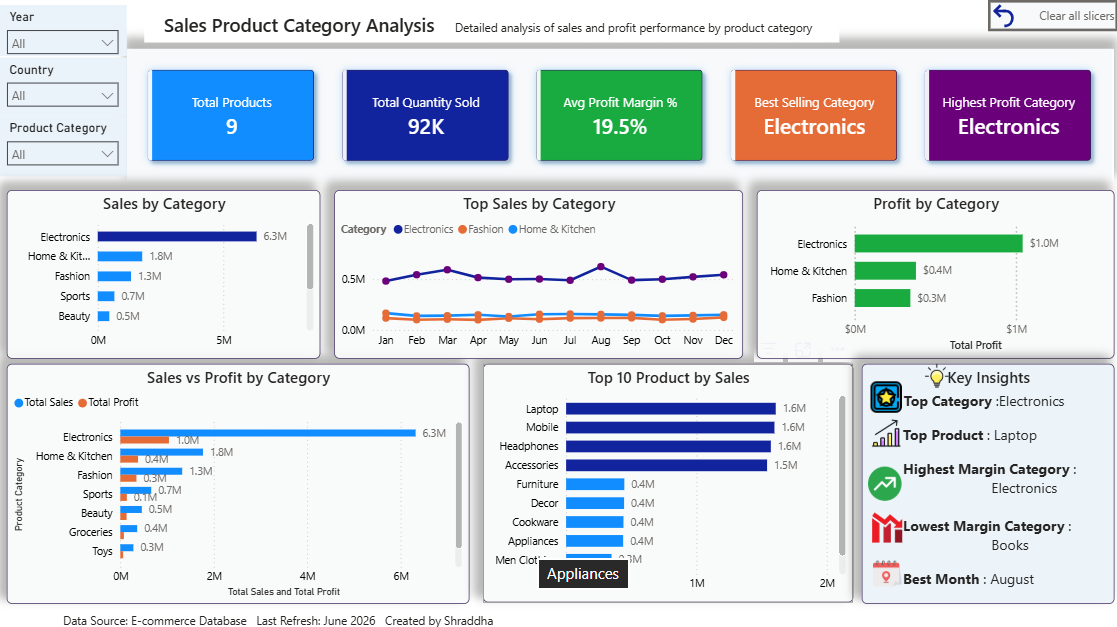

The dashboard page shown, as its layout file describes it:
{"tool":"powerbi","page":{"name":"Sales Product Category","canvas":[1280,720],"ordinal":1},"visuals":[{"type":"cardVisual","fields":{"Data":["ecommerce_orders_dataset.Total Products","ecommerce_orders_dataset.Total Quantity Sold","ecommerce_orders_dataset.Avg Profit Margin %","ecommerce_orders_dataset.Best Selling Category","ecommerce_orders_dataset.Highest Profit Category"]},"box":[147.1,55.7,1128.6,152.9],"z":0},{"type":"clusteredBarChart","title":"Sales vs Profit by Category","fields":{"Category":["ecommerce_orders_dataset.Product_Category"],"Y":["ecommerce_orders_dataset.Total Sales","ecommerce_orders_dataset.Total Profit"]},"box":[10,415.7,528.6,274.3],"z":1000},{"type":"clusteredBarChart","title":"Top 10 Product by Sales","fields":{"Category":["ecommerce_orders_dataset.Product_Subcategory"],"Y":["ecommerce_orders_dataset.Total Sales"]},"box":[554.3,415.7,422.9,272.9],"z":2000},{"type":"lineChart","title":"Top Sales by Category ","fields":{"Category":["ecommerce_orders_dataset.Month Name"],"Series":["ecommerce_orders_dataset.Product_Category"],"Y":["ecommerce_orders_dataset.Total Sales"]},"box":[384.3,217.1,467.1,192.9],"z":3000},{"type":"barChart","title":"Profit by Category","fields":{"Category":["ecommerce_orders_dataset.Product_Category"],"Y":["ecommerce_orders_dataset.Total Profit"]},"box":[867.1,217.1,408.6,192.9],"z":4000},{"type":"actionButton","box":[1131.4,0,148.6,35.7],"z":5000},{"type":"textbox","box":[74.3,700,825.7,20],"z":6000},{"type":"slicer","fields":{"Values":["ecommerce_orders_dataset.Year N"]},"box":[0,6.2,147.5,58.8],"z":7000},{"type":"slicer","fields":{"Values":["ecommerce_orders_dataset.Country"]},"box":[0,65,147.5,67.5],"z":8000},{"type":"slicer","fields":{"Values":["ecommerce_orders_dataset.Product_Category"]},"box":[0,132.5,147.5,68.8],"z":9000},{"type":"barChart","title":"Sales by Category","fields":{"Category":["ecommerce_orders_dataset.Product_Category"],"Y":["ecommerce_orders_dataset.Total Sales"]},"box":[10,217.5,358.8,192.5],"z":10000},{"type":"textbox","title":"Key Insights","box":[987.1,415.7,288.6,274.3],"z":11000},{"type":"image","box":[997.1,428.6,35.7,50],"z":12000},{"type":"image","box":[997.1,478.6,35.7,32.9],"z":13000},{"type":"image","box":[994.3,530,38.6,45.7],"z":14000},{"type":"image","box":[961.4,585.7,110,34.3],"z":15000},{"type":"image","box":[1000,632.9,32.9,45.7],"z":16000},{"type":"textbox","box":[167.1,8.6,794.3,40],"z":17000},{"type":"image","box":[1058.6,415.7,28.6,27.1],"z":17501}]}

Visuals, with their boxes in screenshot pixels (x1, y1, x2, y2), scaled from the page's 1280x720 canvas onto the 1117x627 screenshot:
cardVisual - ecommerce_orders_dataset.Total Products x ecommerce_orders_dataset.Total Quantity Sold: (128, 49, 1113, 182)
"Sales vs Profit by Category" clusteredBarChart: (9, 362, 470, 601)
"Top 10 Product by Sales" clusteredBarChart: (484, 362, 853, 600)
"Top Sales by Category " lineChart: (335, 189, 743, 357)
"Profit by Category" barChart: (757, 189, 1113, 357)
actionButton: (987, 0, 1116, 31)
textbox: (65, 610, 785, 626)
slicer - ecommerce_orders_dataset.Year N: (0, 5, 129, 57)
slicer - ecommerce_orders_dataset.Country: (0, 57, 129, 115)
slicer - ecommerce_orders_dataset.Product_Category: (0, 115, 129, 175)
"Sales by Category" barChart: (9, 189, 322, 357)
"Key Insights" textbox: (861, 362, 1113, 601)
image: (870, 373, 901, 417)
image: (870, 417, 901, 445)
image: (868, 462, 901, 501)
image: (839, 510, 935, 540)
image: (873, 551, 901, 591)
textbox: (146, 7, 839, 42)
image: (924, 362, 949, 386)
